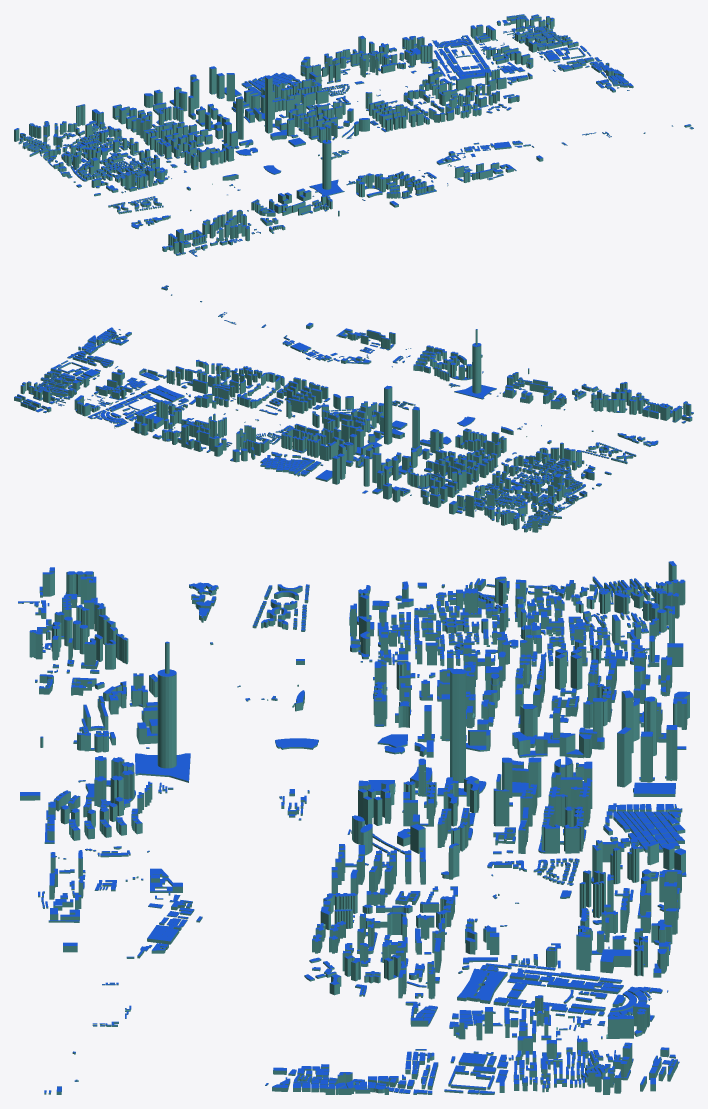
Rendered from testbuilding.glb.
The picture shows the model from 3 angles, top to bottom: view 1: azimuth 30°, elevation 25°; view 2: azimuth 150°, elevation 25°; view 3: azimuth 270°, elevation 25°; orthographic projection. The views are drawn at different scales.
Visible parts, largest first — view 1: 部分测试数据; view 2: 部分测试数据; view 3: 部分测试数据.
Boxes of the visible parts, left/top/right/bottom form: 部分测试数据: left=14, top=14, right=693, bottom=256; 部分测试数据: left=14, top=285, right=693, bottom=532; 部分测试数据: left=18, top=561, right=689, bottom=1094.
Size of the model in its own units: 5628 by 632 by 3108.
